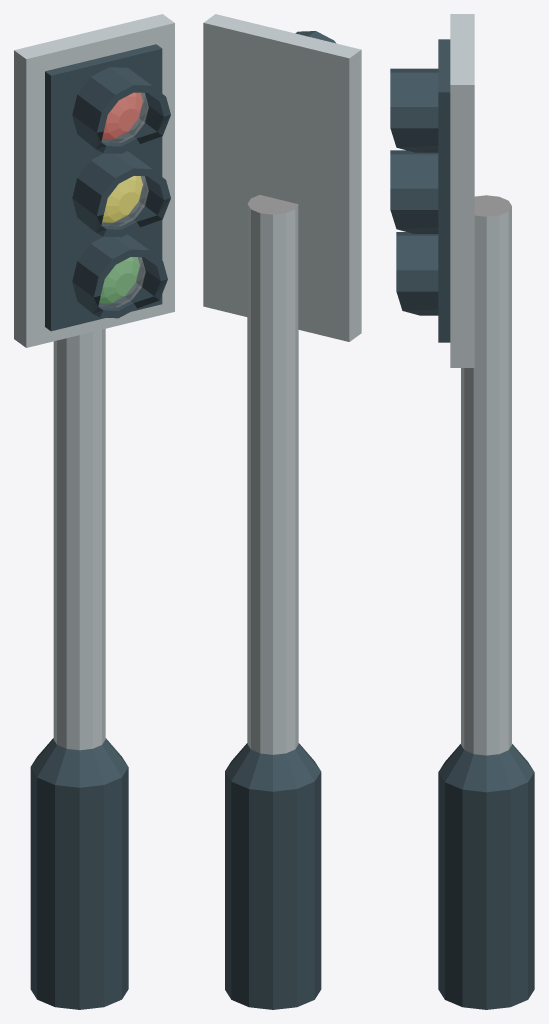
Rendered from Sinal.obj.
The picture shows the model from 3 angles, left to right: view 1: azimuth 30°, elevation 25°; view 2: azimuth 150°, elevation 25°; view 3: azimuth 270°, elevation 25°; orthographic projection. The views are drawn at different scales.
Parts seen in each view (by area): view 1: model.002; view 2: model.002; view 3: model.002.
Boxes of the visible parts, left/top/right/bottom form: model.002: left=14, top=14, right=174, bottom=1009; model.002: left=203, top=14, right=361, bottom=1009; model.002: left=390, top=14, right=534, bottom=1009.
Size of the model in its own units: 0.28 by 1.73 by 0.24.
